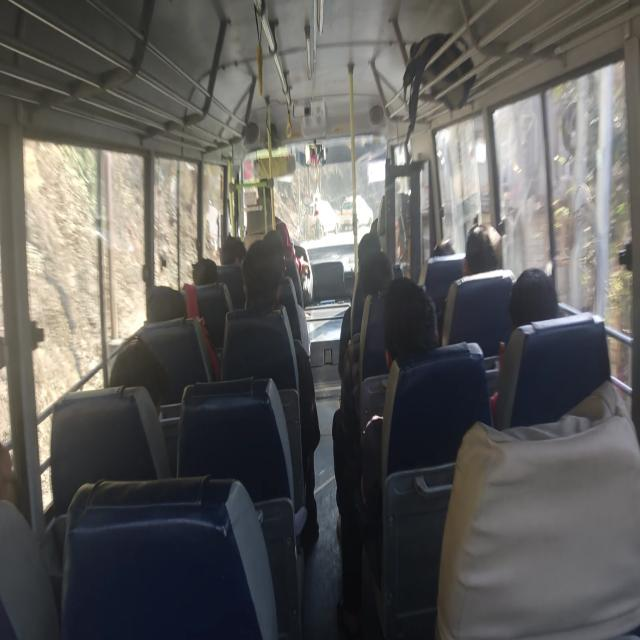person: (435, 379, 639, 638), (336, 276, 439, 634), (221, 237, 320, 548), (489, 266, 559, 422), (441, 222, 503, 346), (338, 231, 382, 379), (462, 222, 502, 276), (220, 236, 246, 268), (192, 258, 218, 286)
